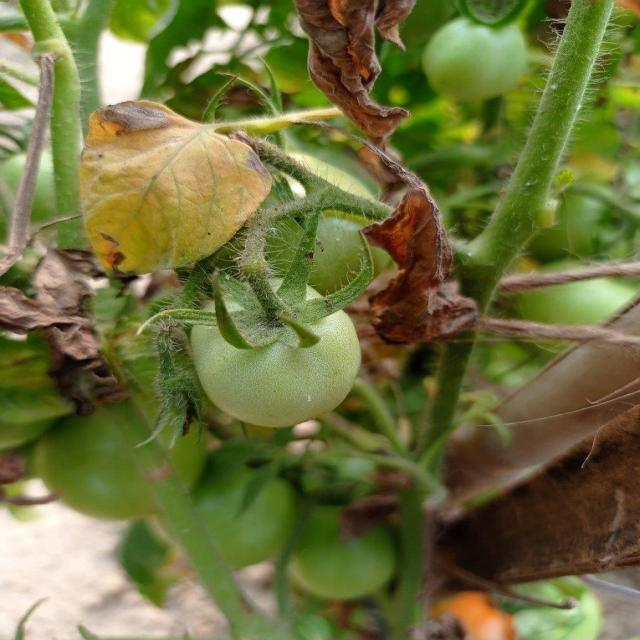Unripe: (191, 275, 364, 429)
